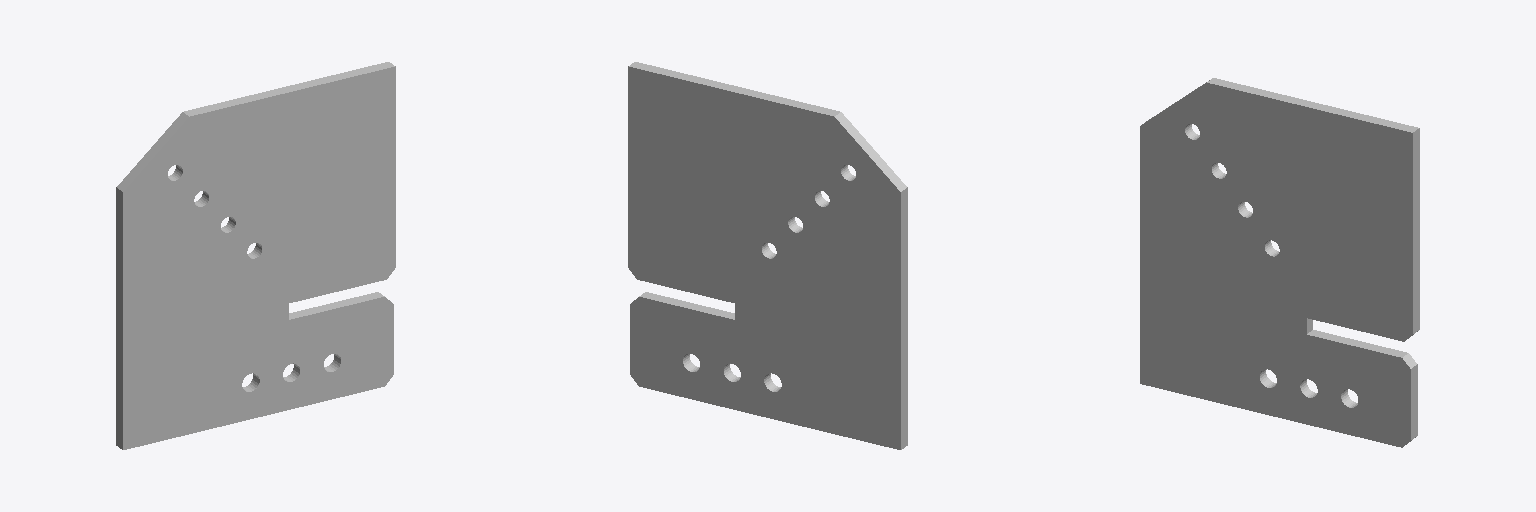
File: BT1056_Qty_1.obj
3 views of the same model, side by side, from view 1: azimuth 30°, elevation 25°; view 2: azimuth 150°, elevation 25°; view 3: azimuth 330°, elevation 25° (orthographic).
Visible parts, largest first — view 1: product-55c2d677-[number redacted]-[number redacted]-body; view 2: product-55c2d677-[number redacted]-[number redacted]-body; view 3: product-55c2d677-[number redacted]-[number redacted]-body.
Boxes of the visible parts, x1,y1,x2,y2 form: product-55c2d677-[number redacted]-[number redacted]-body: [116, 62, 395, 449]; product-55c2d677-[number redacted]-[number redacted]-body: [628, 62, 907, 449]; product-55c2d677-[number redacted]-[number redacted]-body: [1140, 78, 1419, 447].
Bounding box in the file's own units: 468 × 522 × 20.